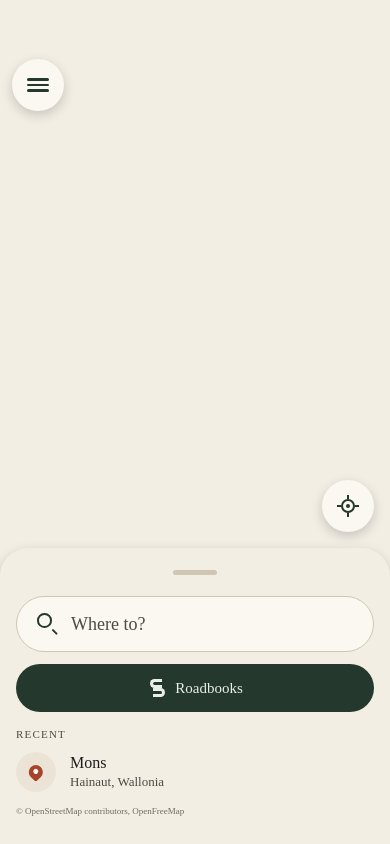
when the route cannot be had the home screen says so and stays
Click the button with aria-label "Ride to Mons": (36,772) [16,744,374,800]
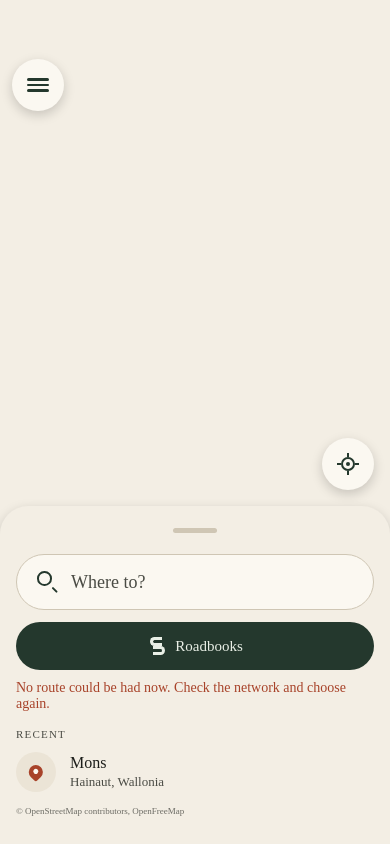
Now the text "No route could be had now. Check the network and choose again." is shown, box [16,670,374,712]
